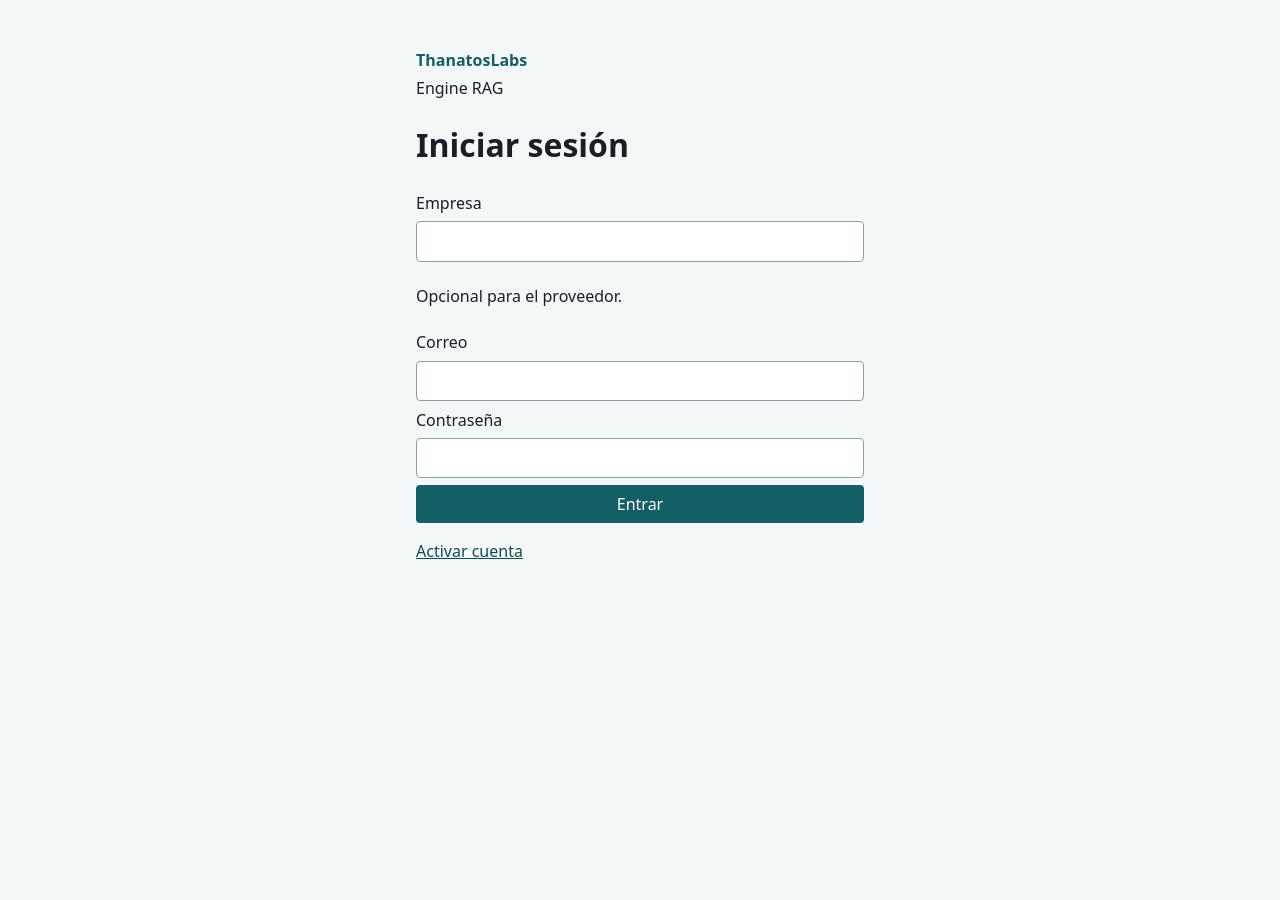
Test: el proveedor entra sin empresa y no pide contenido
Expected: the heading "Iniciar sesión" is shown, [416,123,629,166]
Type "proveedor@thanatos.test" into the field labelled "Correo". click: (640, 381)
box: [416,361,864,401]
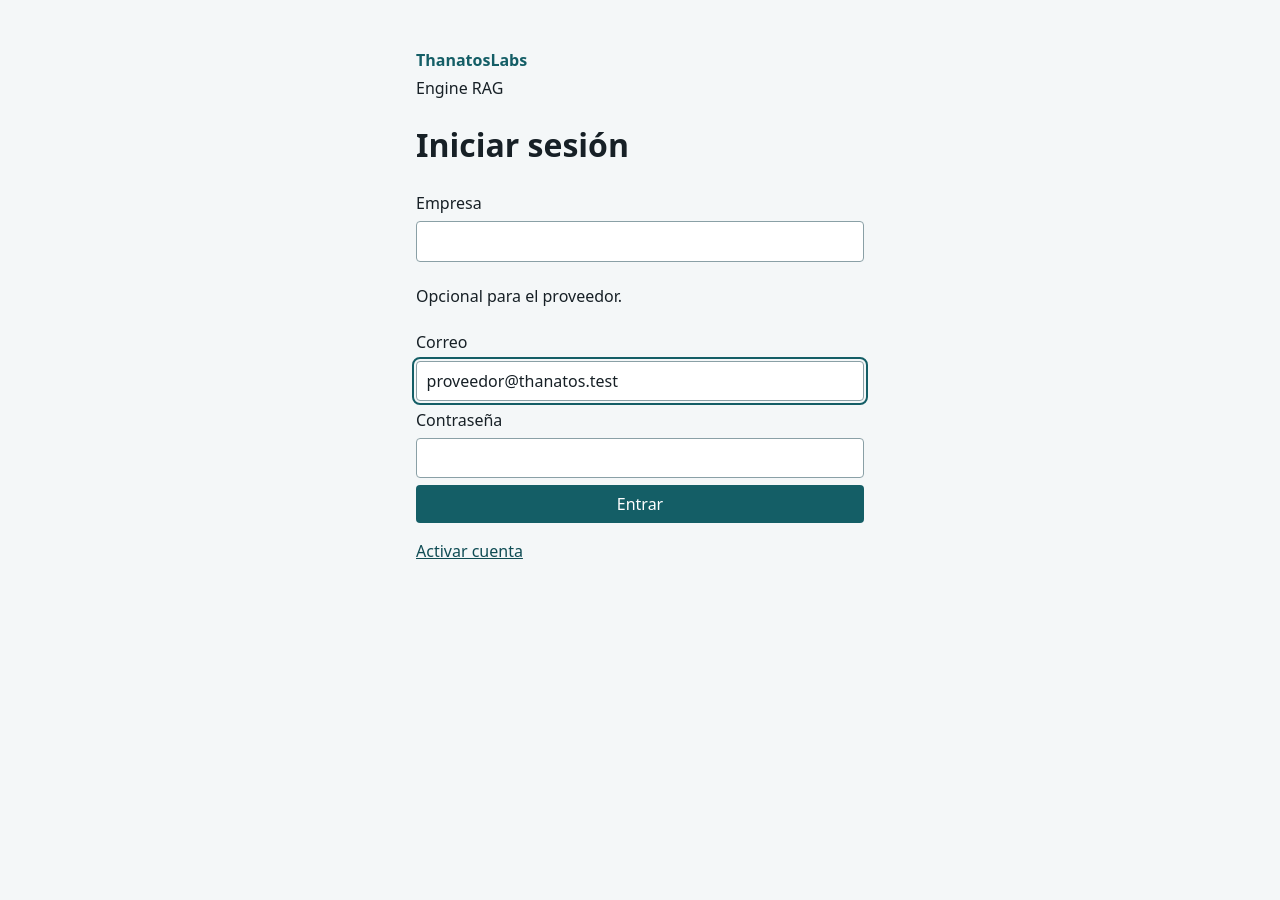
Type "secreta" into the password field labelled "Contraseña". click: (640, 458)
box: [416,438,864,478]
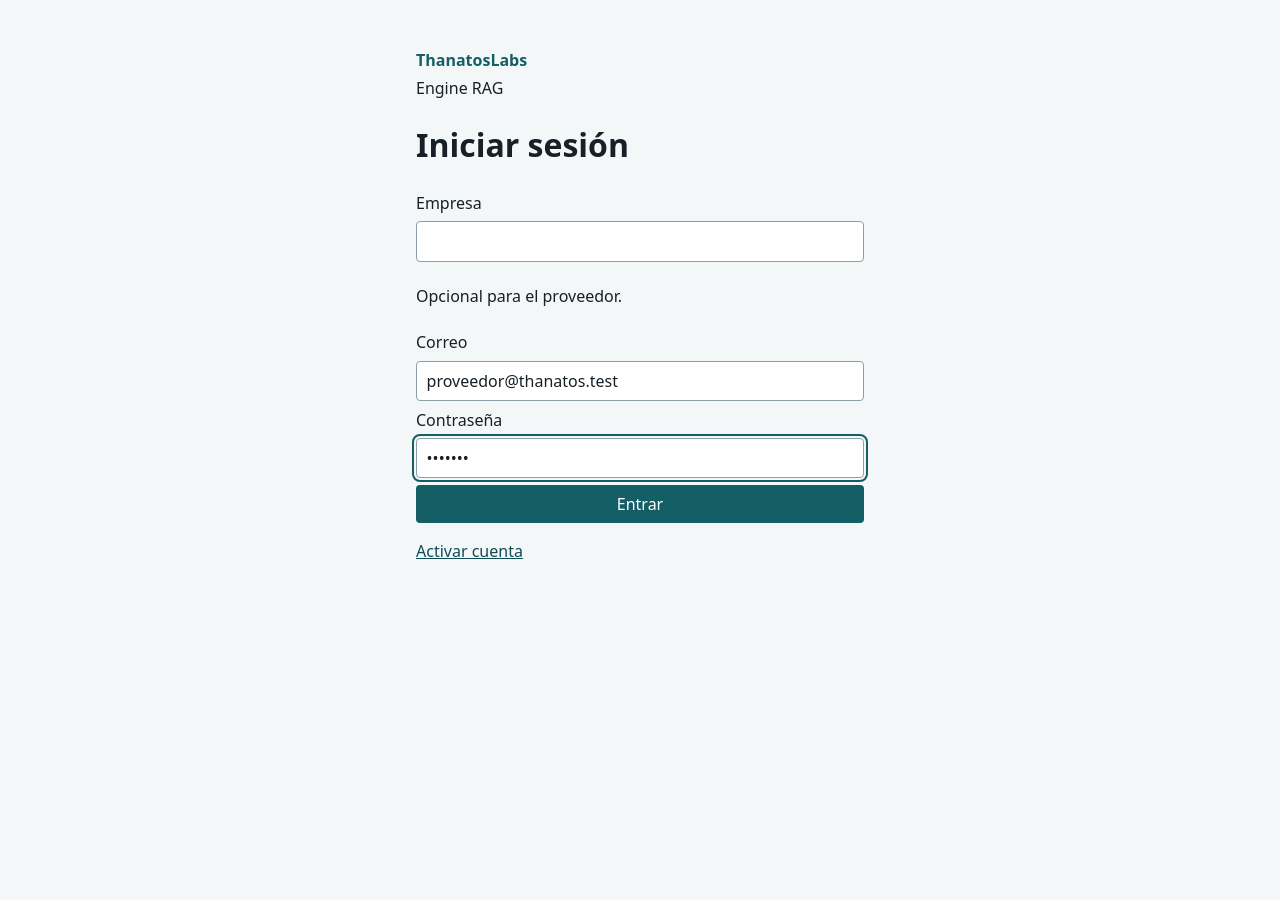
Click the button "Entrar". click: (640, 504)
box: [416,485,864,523]
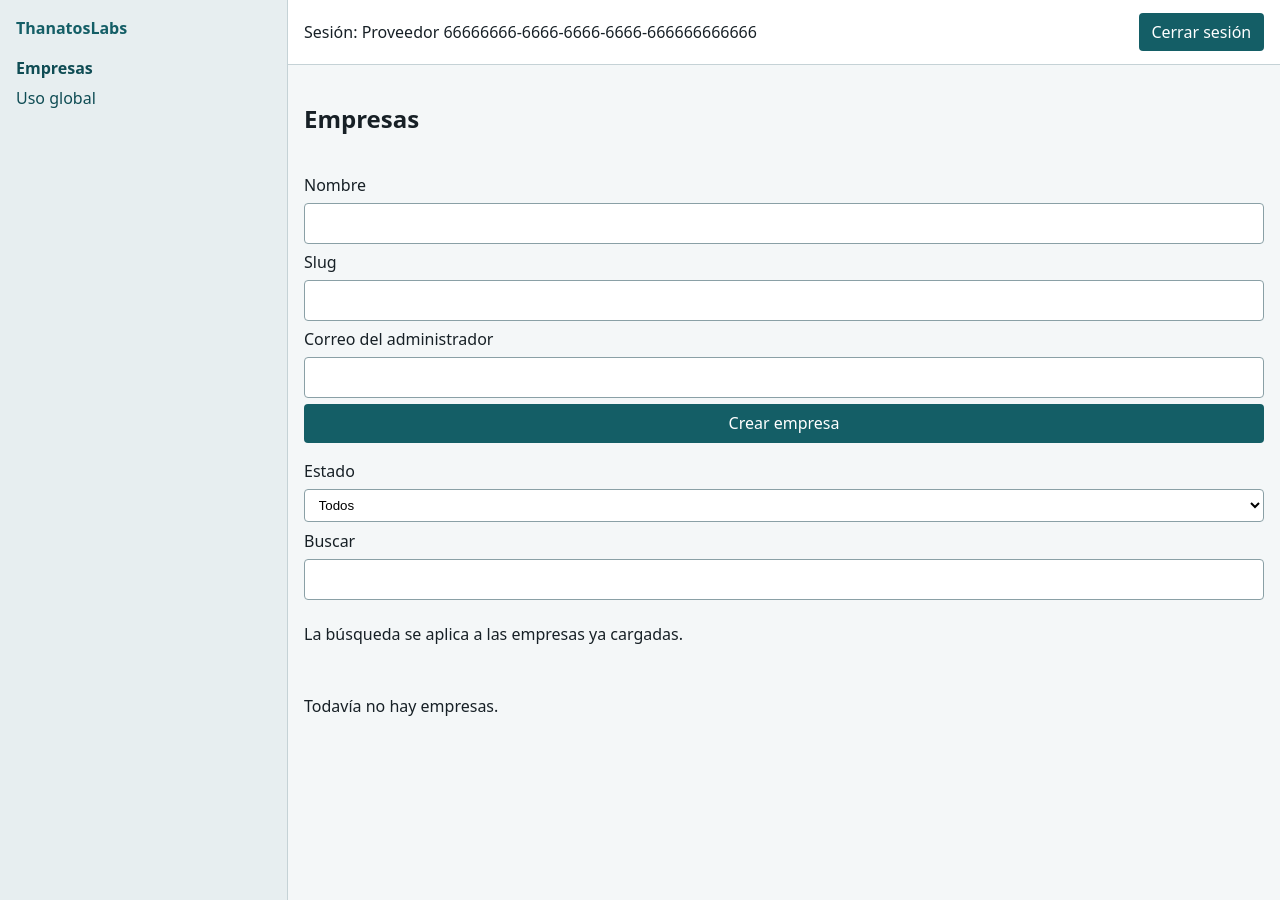
Now the heading "Empresas" is shown, box [304,102,419,135]
